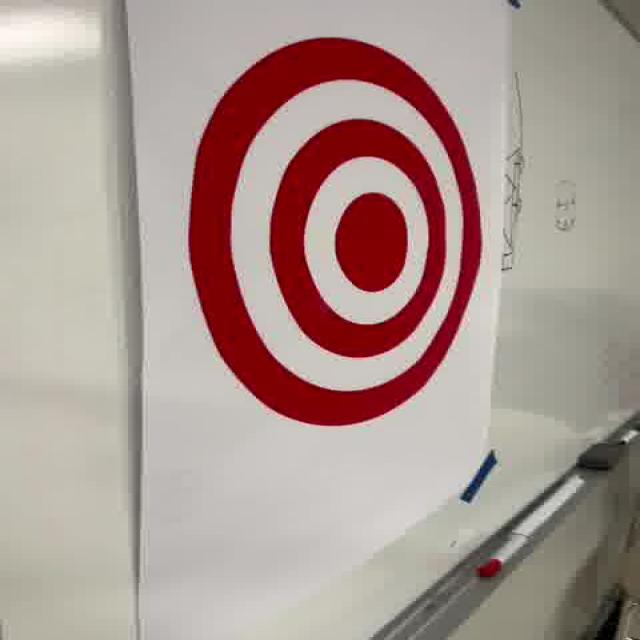target_red: (189, 35, 484, 428)
